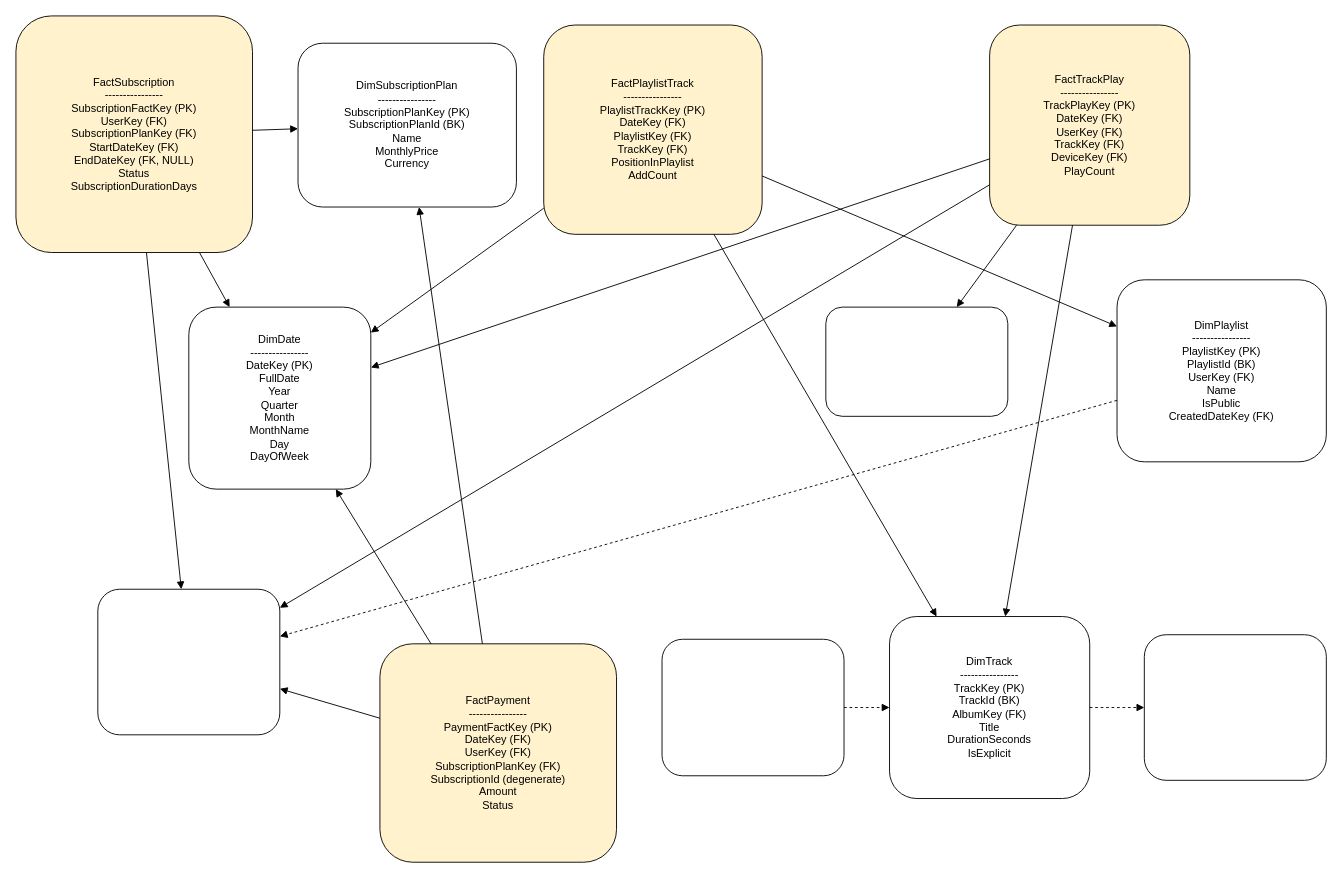
Image size: 1342x878. Some labels were removed from this diagram. Each missing label, with the centre of its shape:
"DimAlbum ---------------- AlbumKey (PK) AlbumId (BK) Title ReleaseDate" belongs at point (1234, 707).
"DimArtist ---------------- ArtistKey (PK) ArtistId (BK) Name Country" belongs at point (752, 707).
"DimDevice ---------------- DeviceKey (PK) DeviceType" belongs at point (916, 361).
"DimUser ---------------- UserKey (PK) UserId (BK) Email DisplayName BirthDate" belongs at point (188, 661).
